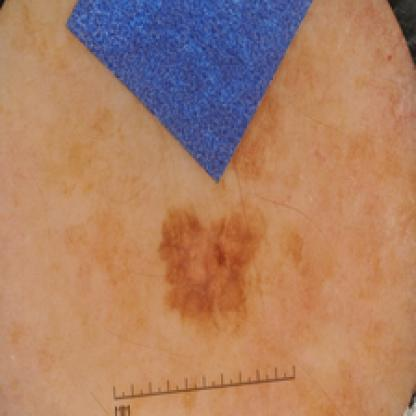malignant: (138, 193, 297, 346)
